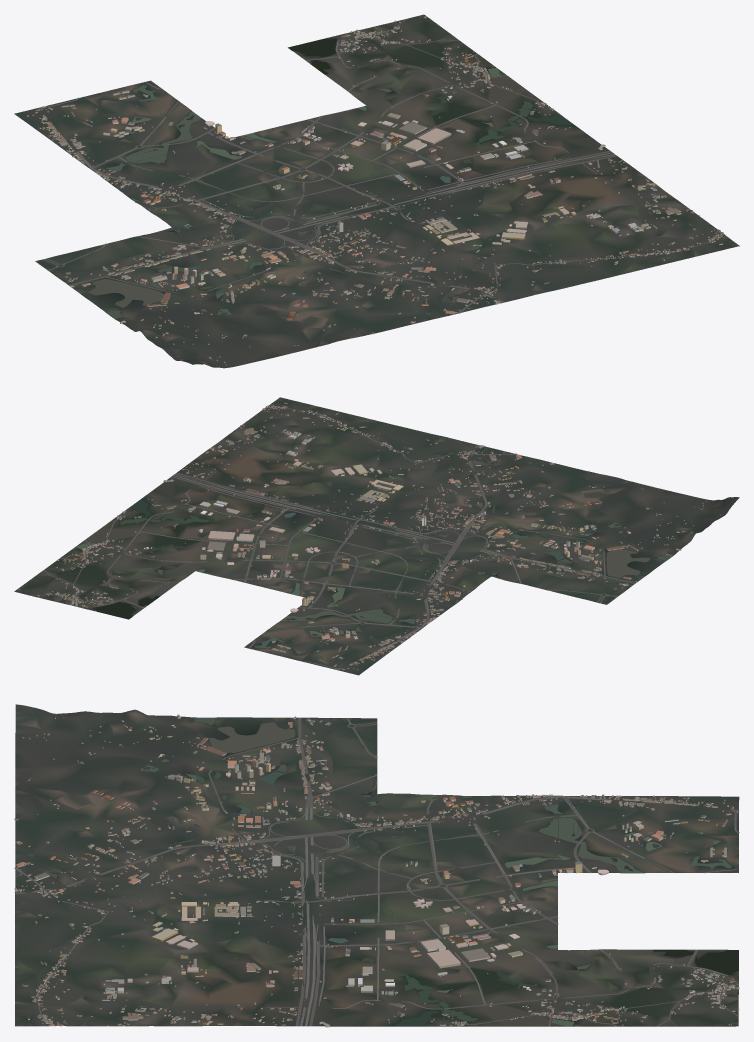
3 renders of one model, top to bottom at view 1: azimuth 30°, elevation 25°; view 2: azimuth 150°, elevation 25°; view 3: azimuth 270°, elevation 25°, orthographic. The views are drawn at different scales.
Visible parts, largest first — view 1: ground, buildings, roads, water; view 2: ground, buildings, roads, water; view 3: ground, buildings, roads, water.
Boxes of the visible parts, left/top/right/bottom form: ground: left=14, top=14, right=739, bottom=368; buildings: left=26, top=16, right=725, bottom=365; roads: left=38, top=19, right=720, bottom=313; water: left=54, top=38, right=629, bottom=318; ground: left=14, top=397, right=739, bottom=675; buildings: left=17, top=402, right=720, bottom=669; roads: left=29, top=407, right=637, bottom=670; water: left=64, top=443, right=672, bottom=653; ground: left=15, top=704, right=739, bottom=1026; buildings: left=14, top=714, right=739, bottom=1027; roads: left=14, top=717, right=739, bottom=1026; water: left=19, top=717, right=738, bottom=1026.
Size of the model in its own units: 5635 by 145 by 5624.
